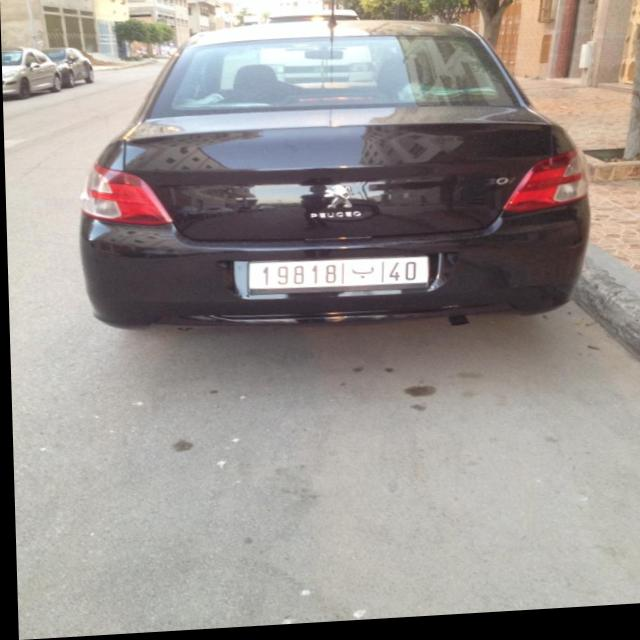License-Plate: (246, 262, 427, 296)
